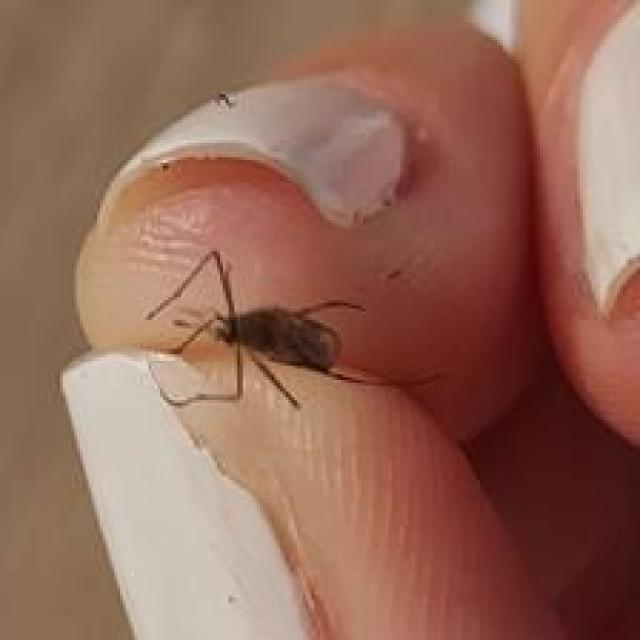Culex: (143, 247, 443, 413)
